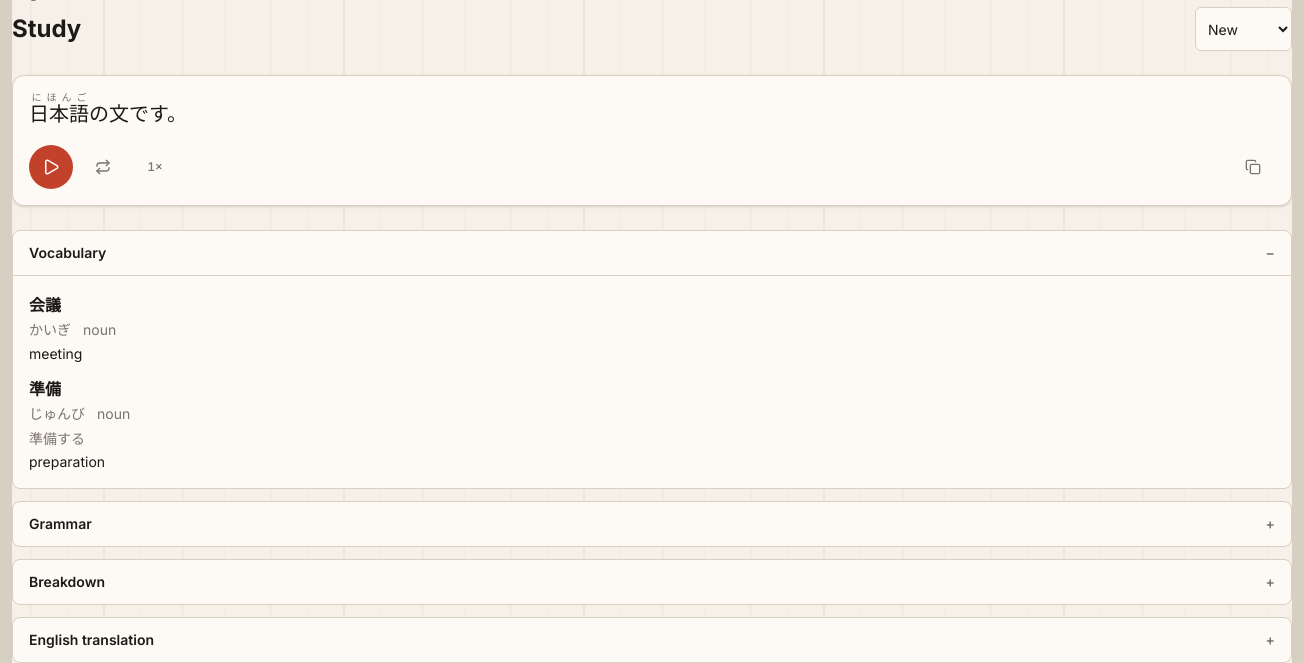
StudyScreen › reveals the translation only after the user opens its accordion
This screenshot has width=1304, height=663.
Click the button "English translation +": (91, 640) [13,618,1291,662]
(page scrolled)
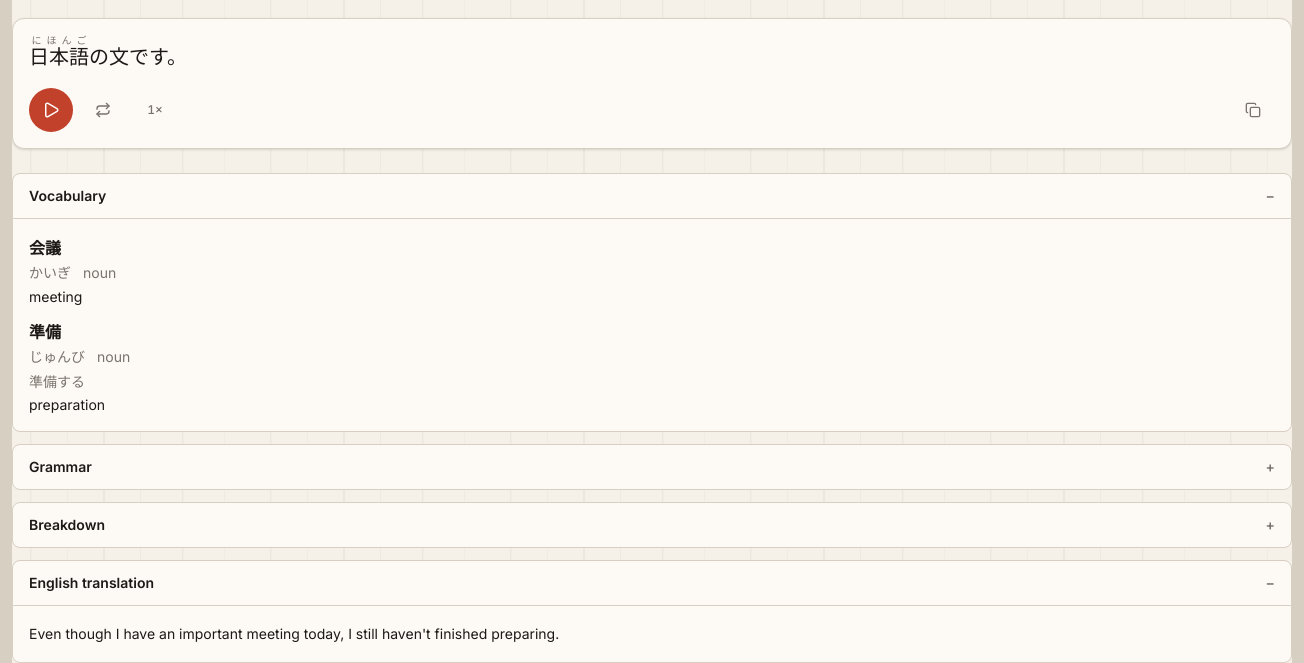
Expected: the text "Even though I have an important meeting today, I still haven't finished preparing." is shown, [29,625,559,642]
